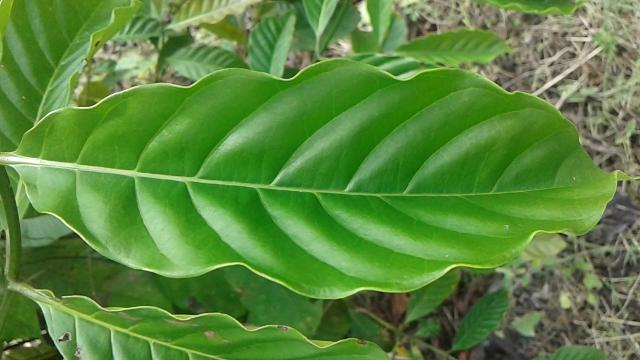healthy: (8, 54, 640, 304)
